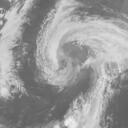cyclone: (48, 28, 100, 83)
